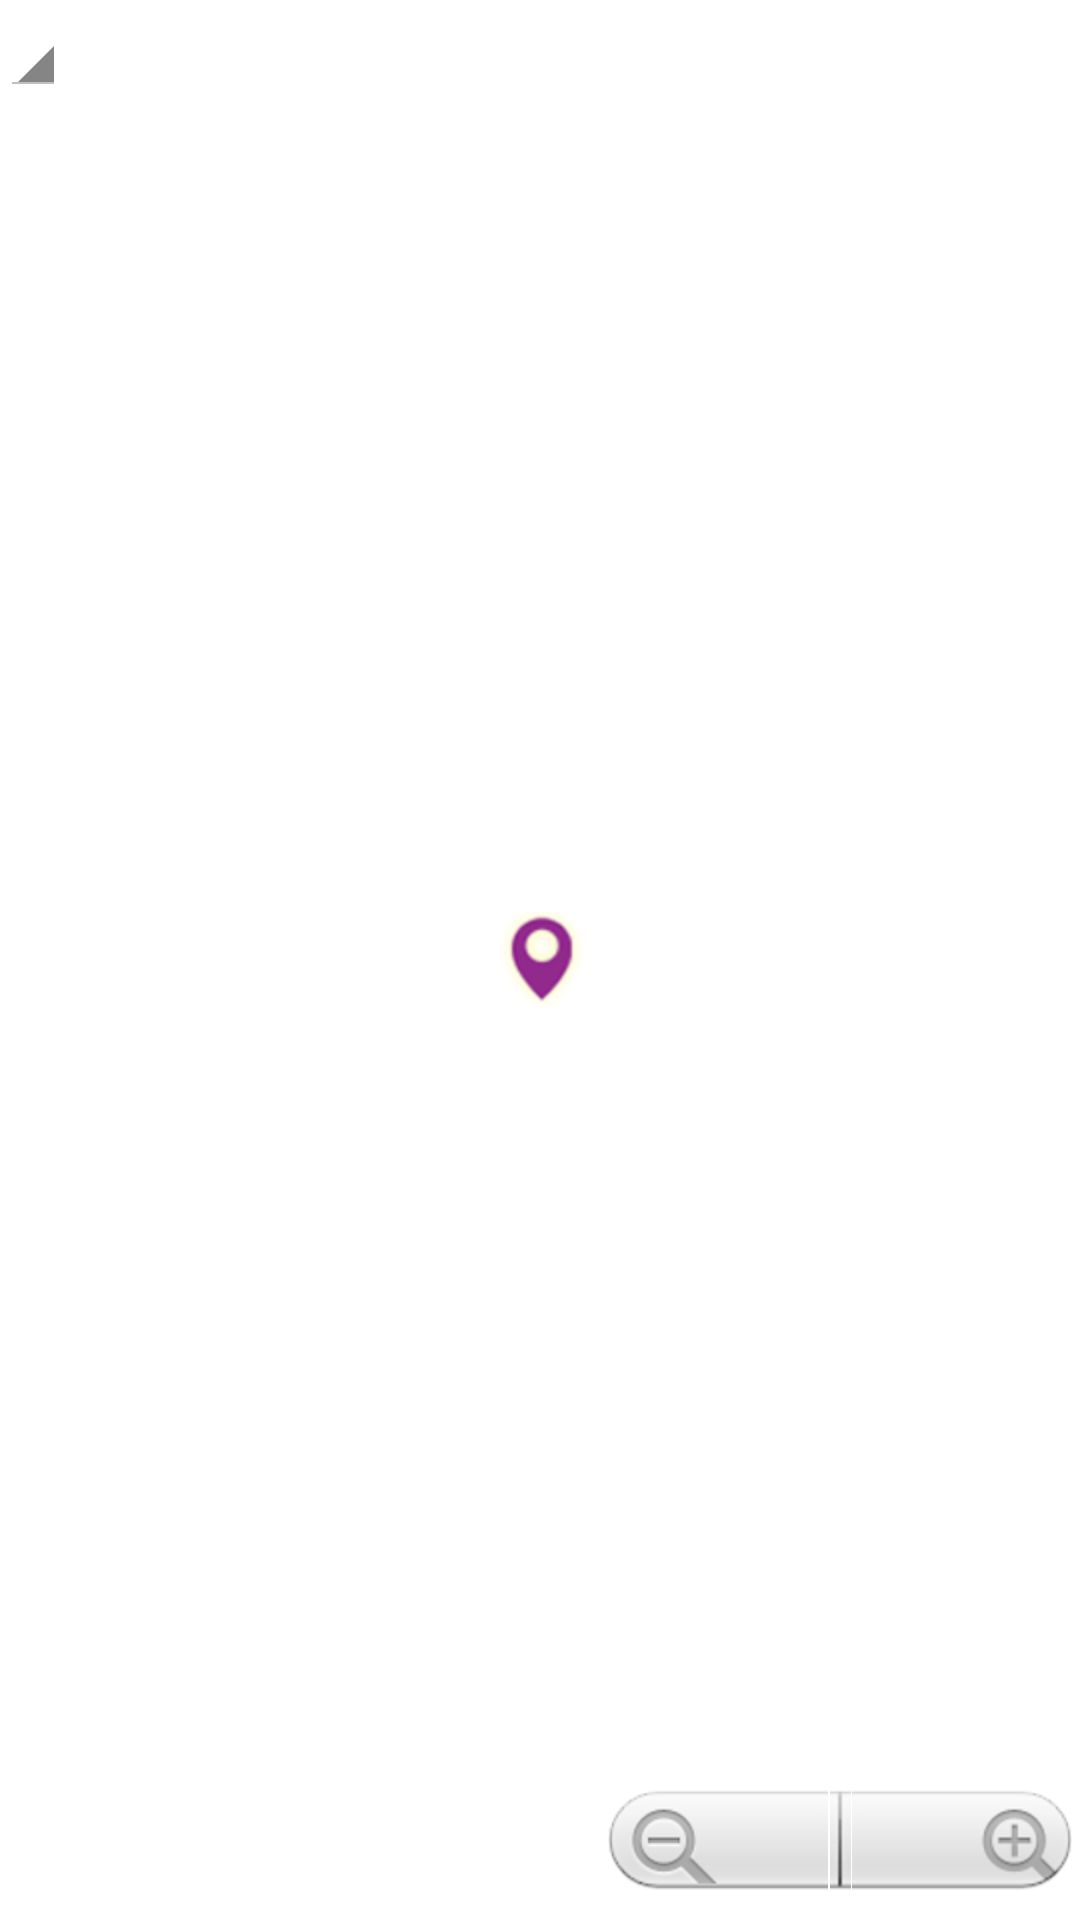

Screen size 1080w x 1920h. Icon name, then its box in pixels as (x1, y1, x2, y2):
indicator: (508, 915, 575, 1001)
